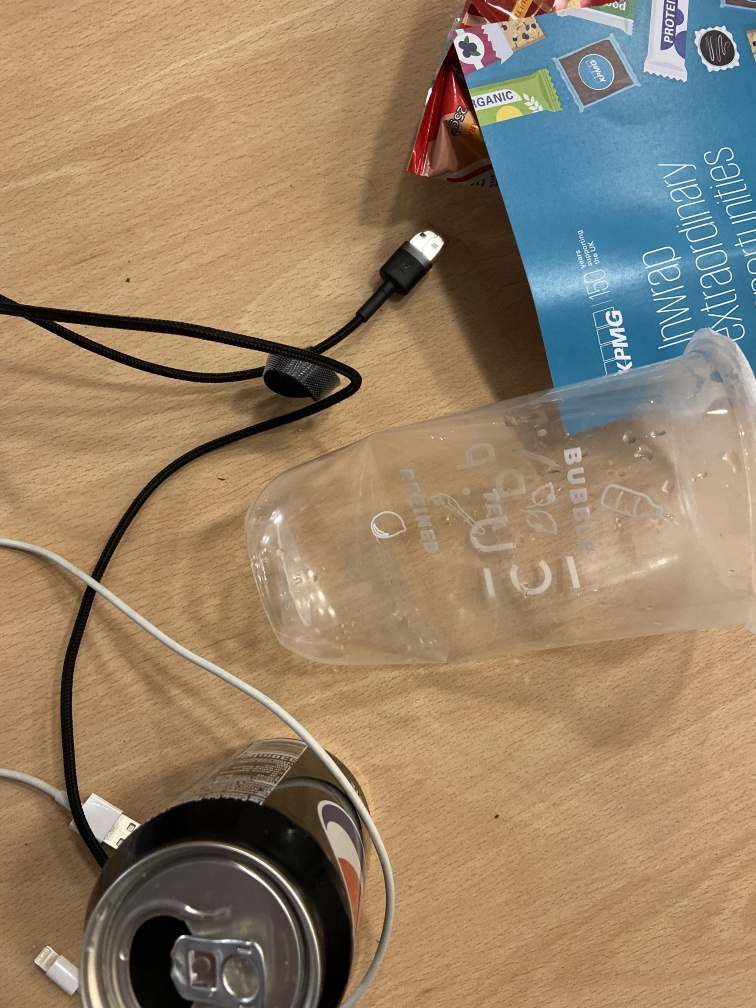can_black: (76, 734, 370, 1008)
